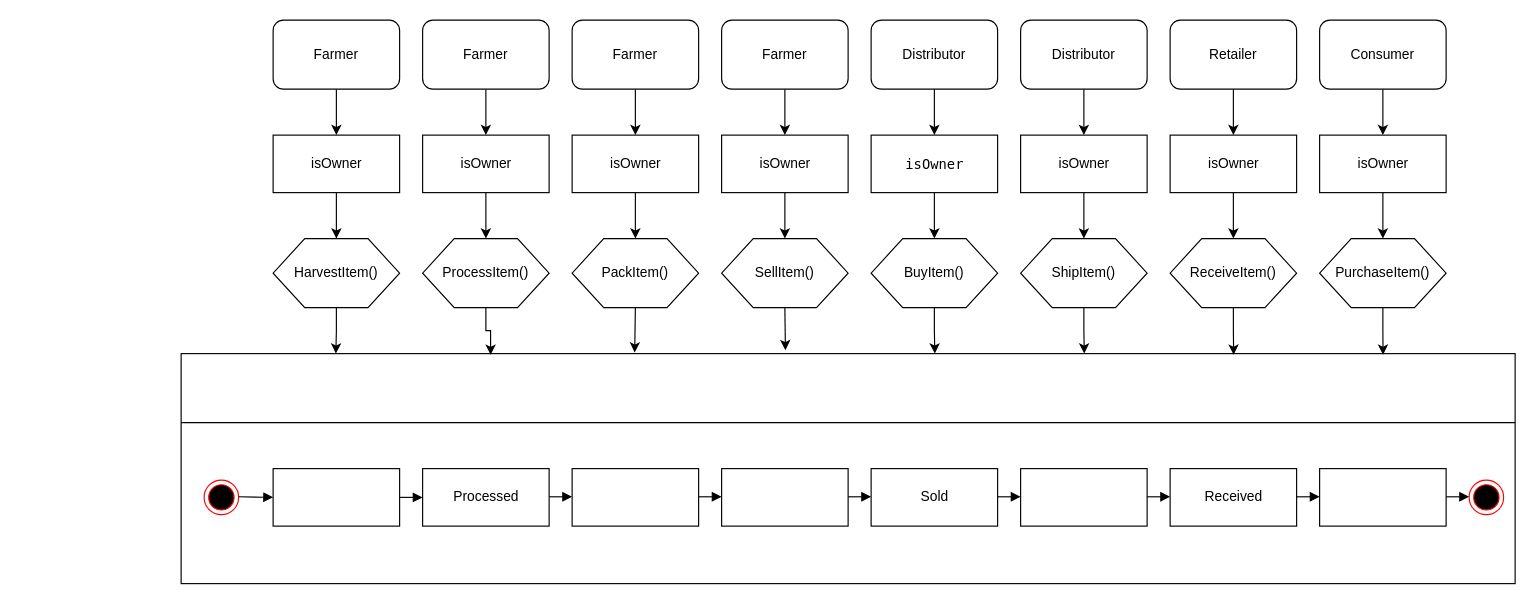
Some shapes in this 1535 by 604 pixel diagram are drawn without their labels. The shapes that lost their labels are listed below. From the top down, each one's box as (x1, y1, x2, y2) in pixels, then its label:
(180, 352, 1515, 584): Item State
(272, 467, 400, 526): Harvested
(571, 467, 699, 526): Packed
(720, 467, 848, 526): ForSale
(1019, 467, 1147, 526): Shipped
(1318, 467, 1446, 526): Purchased
